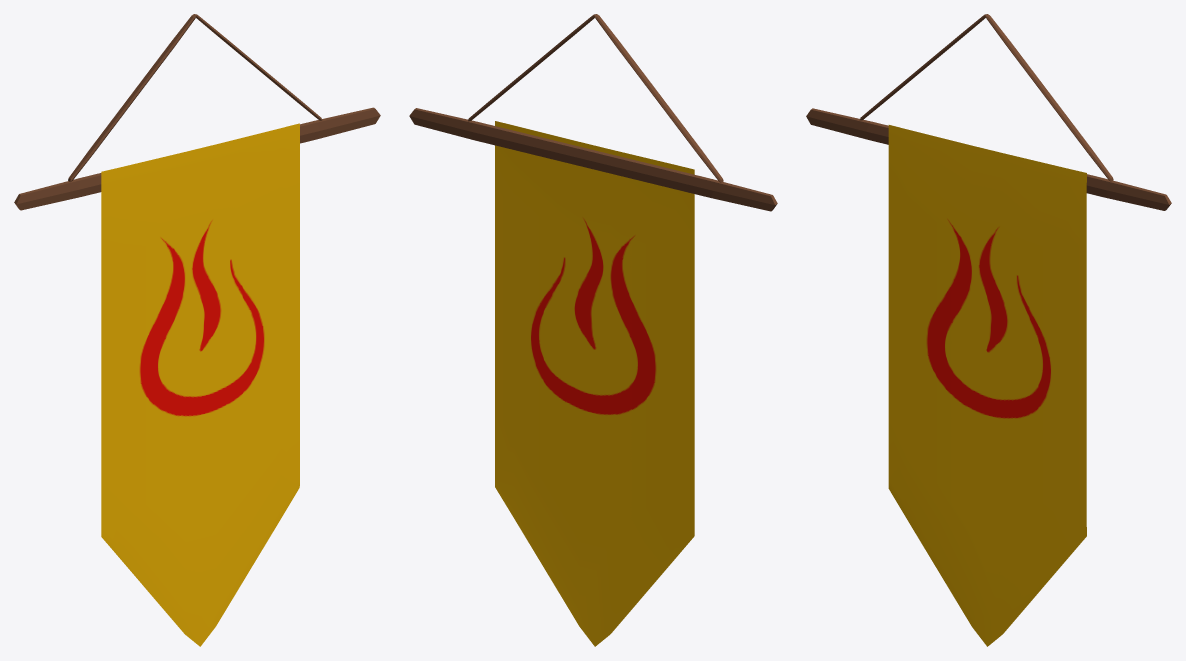
The model's file is Estandarte1.fbx.
The picture shows the model from 3 angles, left to right: view 1: azimuth 30°, elevation 25°; view 2: azimuth 150°, elevation 25°; view 3: azimuth 330°, elevation 25°; orthographic projection.
Visible parts, largest first — view 1: Plane; view 2: Plane; view 3: Plane.
Part boxes in pixels (left/top/right/bottom): Plane: left=14, top=14, right=380, bottom=646; Plane: left=409, top=14, right=777, bottom=646; Plane: left=806, top=14, right=1171, bottom=646.
Bounding box in the file's own units: 189 × 314 × 3.8.
